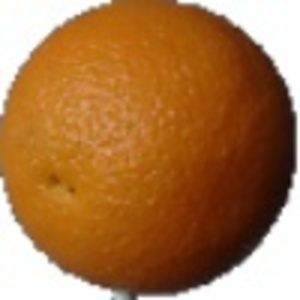laranja: (2, 1, 296, 294)
